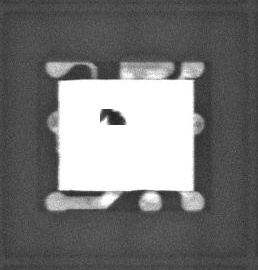DIE_INK: (100, 109, 128, 127)
